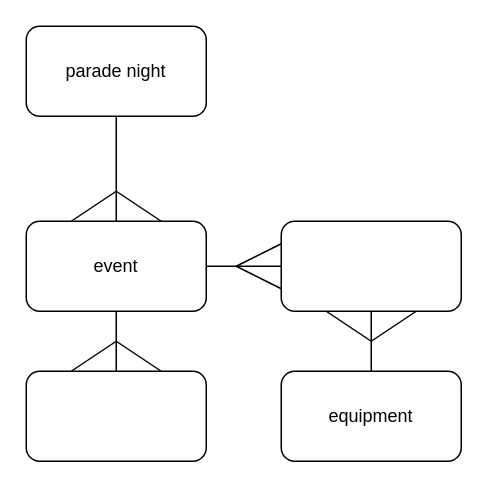
Some shapes in this 488 by 488 pixel diagram are drawn without their labels. Here are the shapes that lost their labels. From the top down, the centre of each, then its label:
At [370,265]: "equipment requests".
At [115,415]: "cadet".
